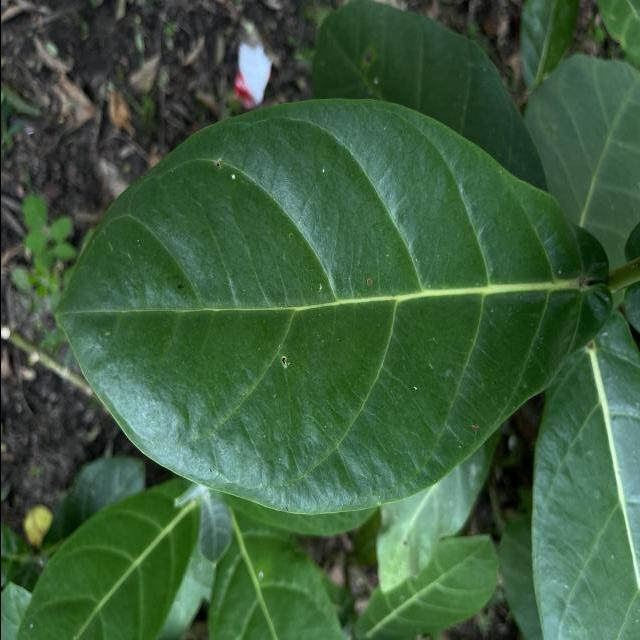Calotropis gigantea: (48, 92, 616, 518), (12, 481, 205, 640)
